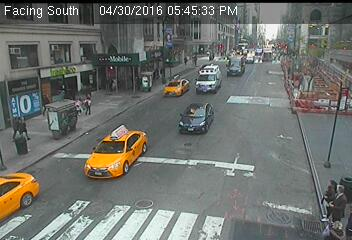neg: (71, 159, 91, 185), (99, 100, 118, 126), (290, 66, 306, 88), (261, 133, 277, 154), (239, 81, 254, 100), (141, 92, 155, 111), (175, 118, 189, 136), (134, 138, 148, 156), (165, 175, 179, 193), (127, 180, 139, 195), (226, 120, 238, 135), (203, 102, 214, 117), (216, 164, 227, 179), (310, 105, 318, 116)
pos: (315, 175, 350, 221), (327, 185, 351, 217), (10, 112, 30, 140), (8, 115, 24, 137), (78, 97, 93, 116), (70, 97, 85, 116), (330, 217, 344, 236), (181, 55, 190, 66)
